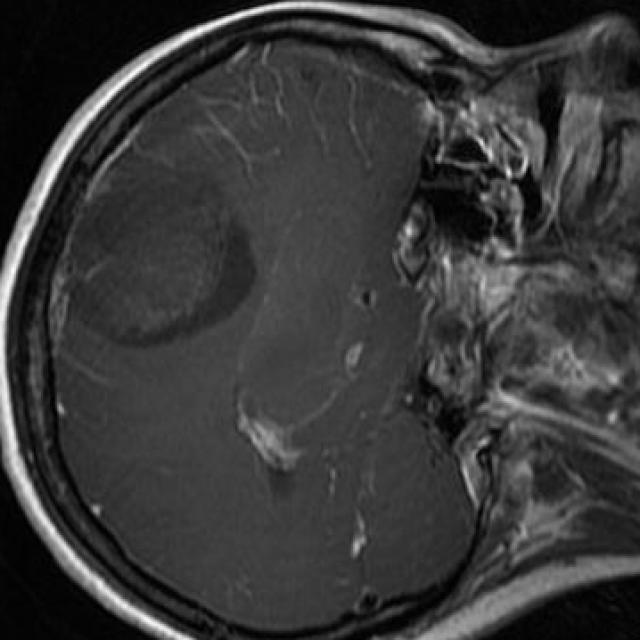glioma: (59, 160, 260, 349)
